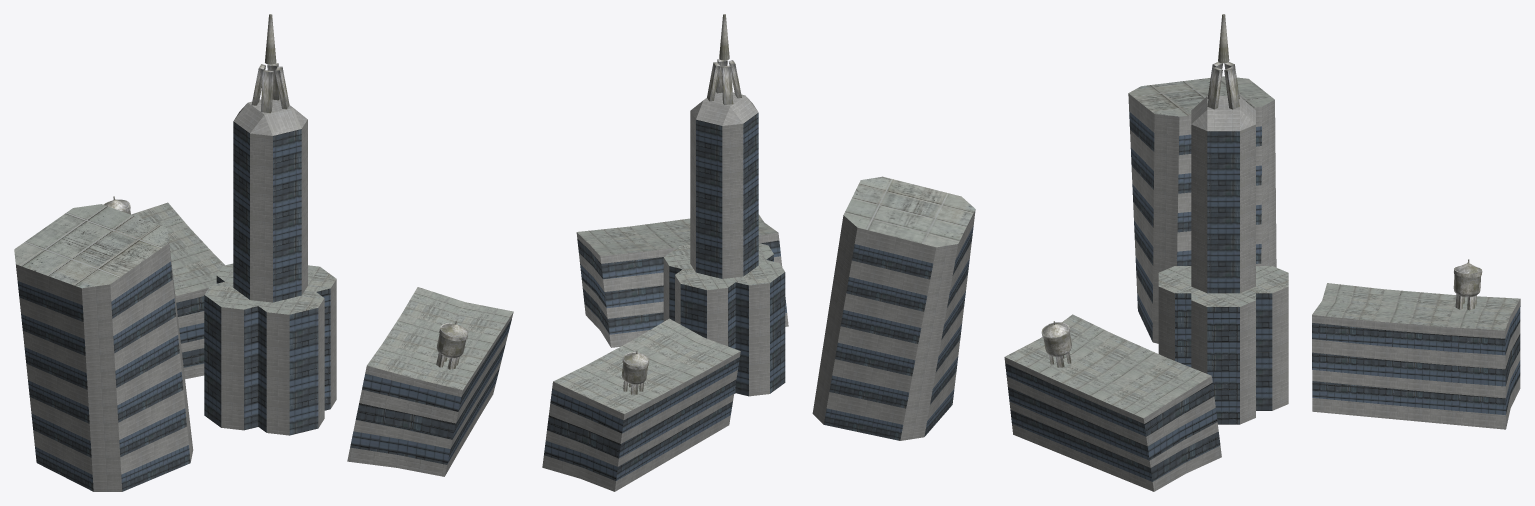
File: Blocks.fbx
The picture shows the model from 3 angles, left to right: view 1: azimuth 30°, elevation 25°; view 2: azimuth 150°, elevation 25°; view 3: azimuth 270°, elevation 25°; orthographic projection. The views are drawn at different scales.
Parts seen in each view (by area): view 1: Cube; view 2: Cube; view 3: Cube.
Part boxes in pixels (x1,y1,x2,y2): Cube: (14, 14, 513, 491); Cube: (542, 14, 975, 491); Cube: (1004, 14, 1520, 491).
Size of the model in its own units: 1581 by 1324 by 1589.
